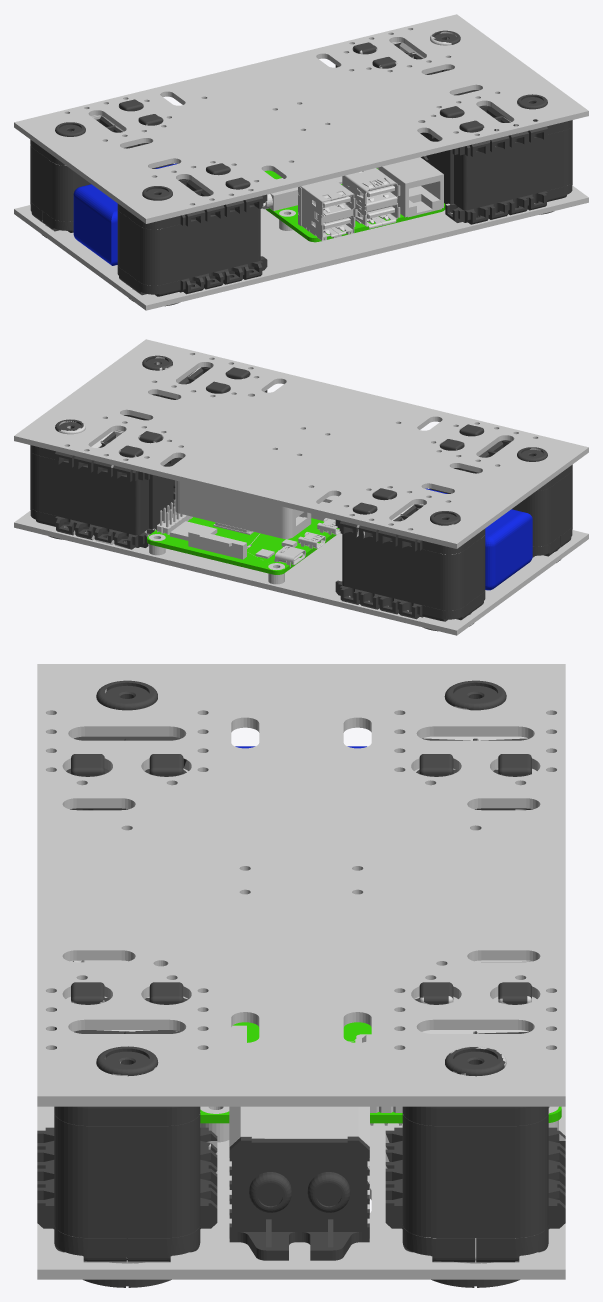
Rendered from base_linkOLD.dae.
3 views of the same model, one above another, from view 1: azimuth 30°, elevation 25°; view 2: azimuth 150°, elevation 25°; view 3: azimuth 270°, elevation 25° (orthographic). The views are drawn at different scales.
Visible parts, largest first — view 1: body for dae 4WS; view 2: body for dae 4WS; view 3: body for dae 4WS.
Part boxes in pixels (left/top/right/bottom): body for dae 4WS: left=14, top=14, right=588, bottom=310; body for dae 4WS: left=14, top=339, right=588, bottom=635; body for dae 4WS: left=37, top=664, right=565, bottom=1287.
Size of the model in its own units: 0.182 by 0.094 by 0.04.
